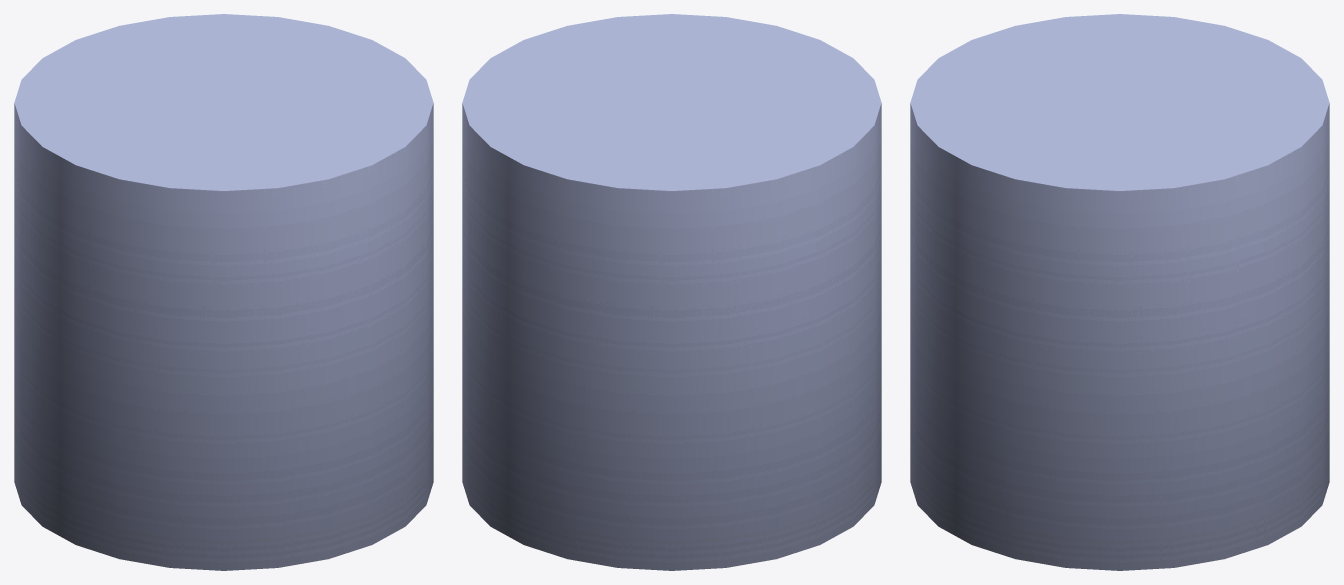
Rendered from shape-cylinder-detailed.glb.
The picture shows the model from 3 angles, left to right: view 1: azimuth 30°, elevation 25°; view 2: azimuth 150°, elevation 25°; view 3: azimuth 270°, elevation 25°; orthographic projection.
Visible parts, largest first — view 1: shape-cylinder-detailed; view 2: shape-cylinder-detailed; view 3: shape-cylinder-detailed.
Boxes of the visible parts, bbox=[...] form: shape-cylinder-detailed: bbox=[14, 14, 433, 570]; shape-cylinder-detailed: bbox=[462, 14, 881, 570]; shape-cylinder-detailed: bbox=[910, 14, 1329, 570].
Bounding box in the file's own units: 1 × 1 × 1.
Materials: 1 (1 with a texture image).
